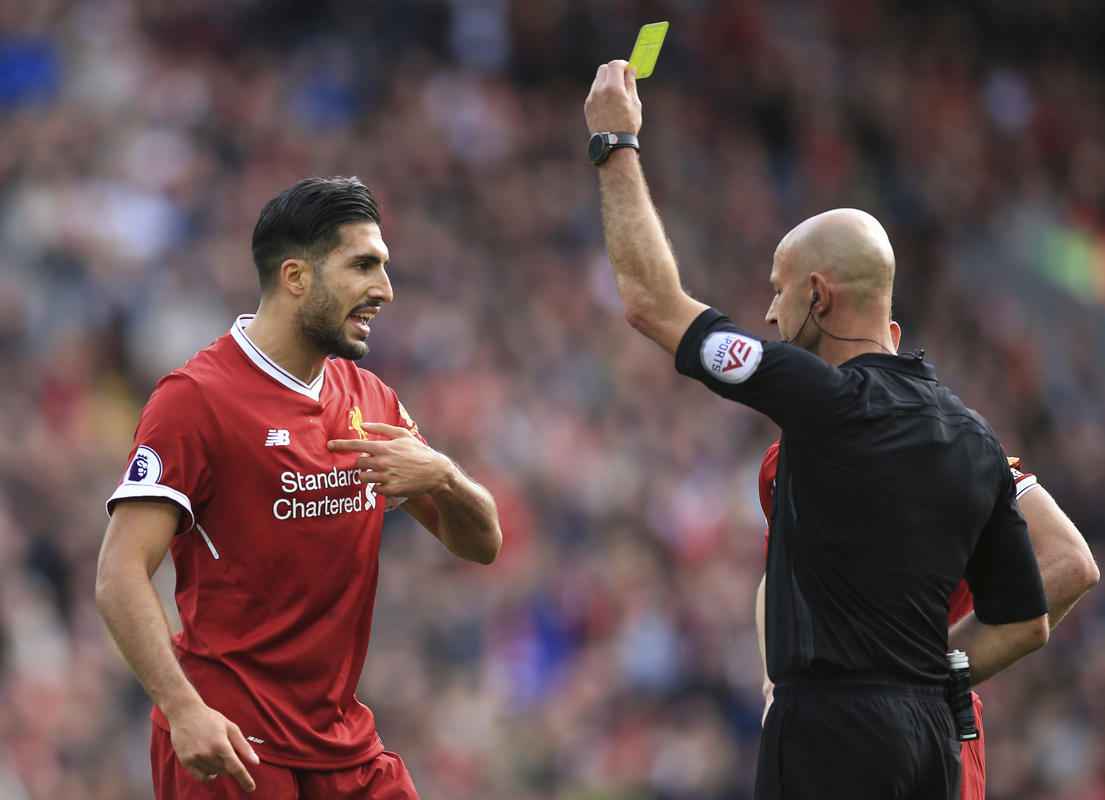yellow_card: (568, 13, 684, 141)
